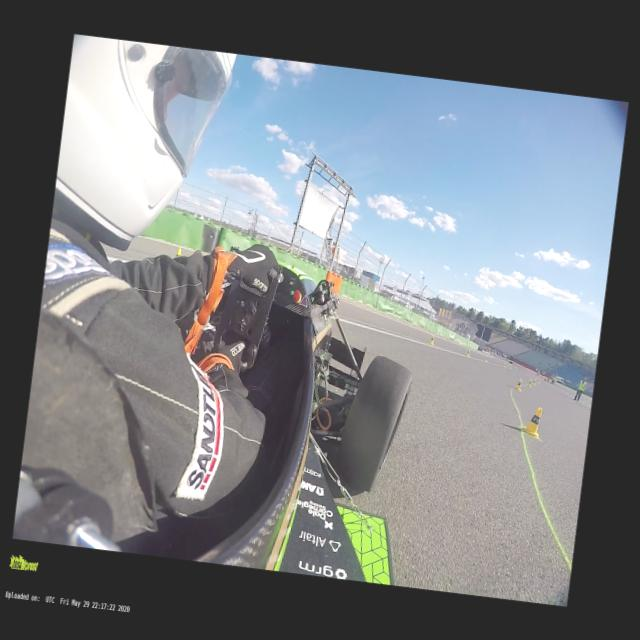yellow_cone: (522, 404, 543, 438), (512, 378, 522, 391), (428, 334, 434, 344), (175, 248, 181, 258), (526, 379, 532, 386), (465, 349, 469, 355), (483, 356, 487, 362), (532, 380, 536, 386), (502, 362, 506, 367), (536, 378, 540, 383), (514, 366, 516, 371)
